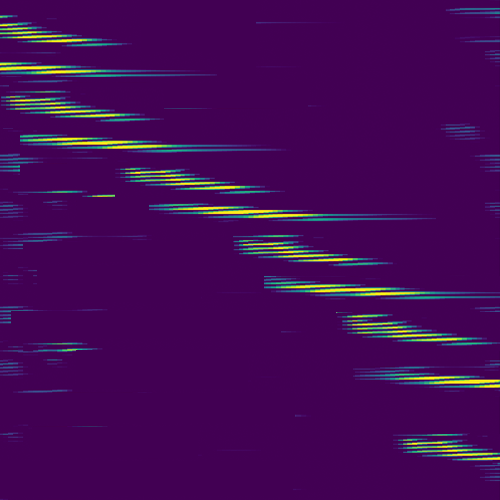semblance: (115, 164, 263, 194), (1, 90, 135, 123), (340, 311, 470, 344), (17, 129, 176, 154), (234, 232, 362, 263), (1, 13, 113, 47), (164, 201, 332, 221), (379, 363, 500, 388), (398, 435, 500, 463), (1, 57, 121, 79), (273, 281, 435, 297)
